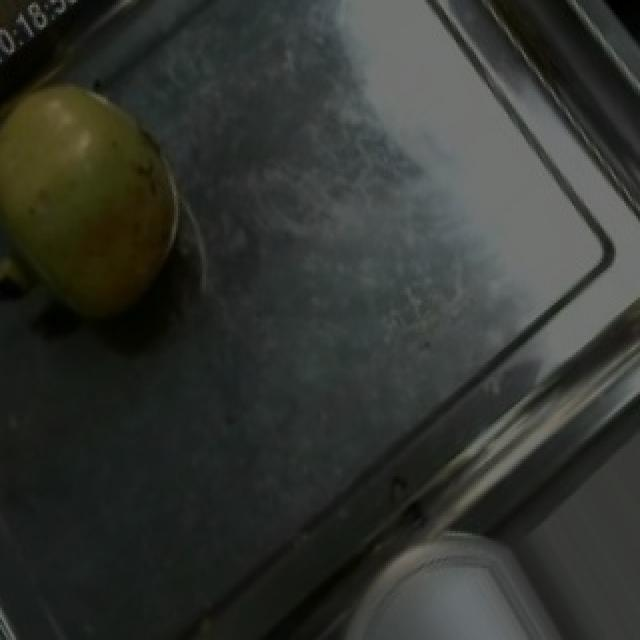fruit: (0, 47, 210, 342)
